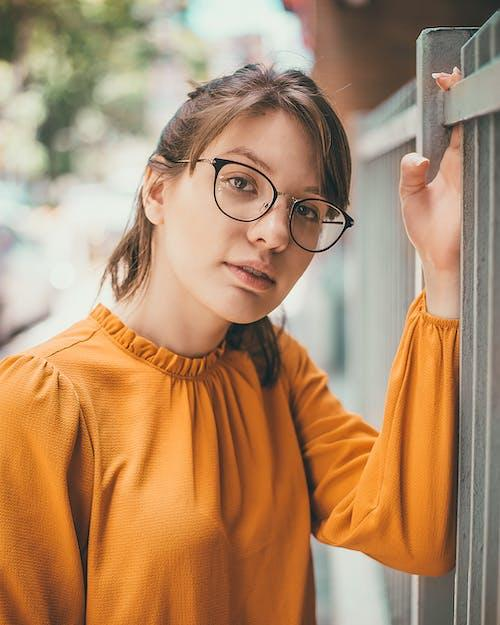eyeglasses: (192, 152, 372, 262)
